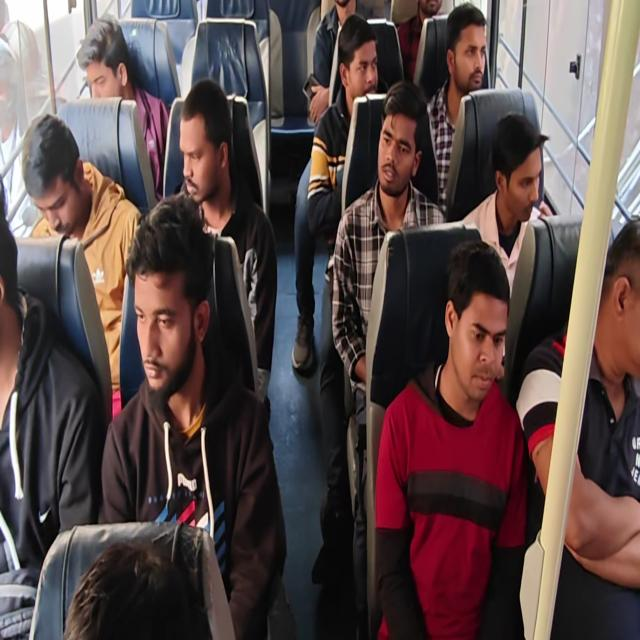person: (1, 1, 638, 638), (98, 192, 289, 638), (330, 79, 446, 635), (374, 239, 529, 638), (516, 216, 639, 638), (0, 174, 107, 638), (21, 112, 142, 419), (174, 78, 278, 414), (292, 13, 379, 373), (416, 2, 549, 220), (76, 15, 170, 201), (460, 112, 551, 300), (62, 537, 212, 639), (425, 2, 488, 215), (307, 0, 363, 126), (0, 34, 31, 235), (396, 0, 442, 82)
